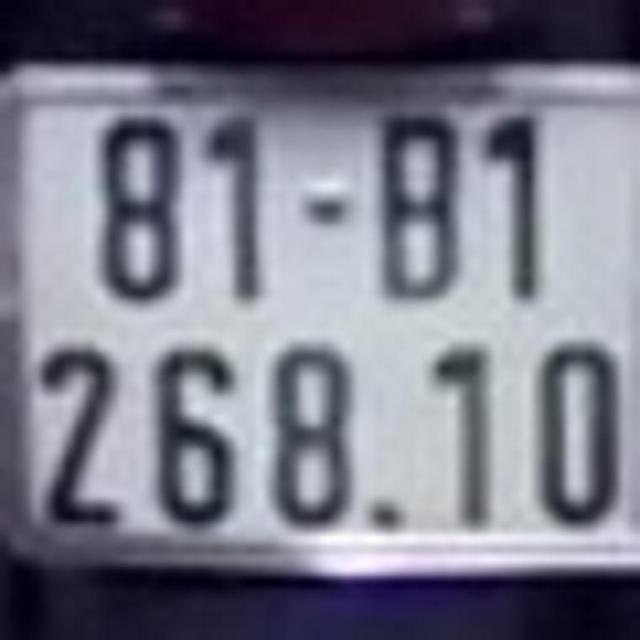0: (548, 340, 616, 524)
1: (204, 124, 272, 300), (434, 348, 496, 522), (488, 122, 540, 298)
2: (31, 346, 123, 520)
6: (157, 352, 230, 520)
8: (108, 115, 176, 304), (276, 346, 344, 520)
B: (386, 125, 458, 302)
